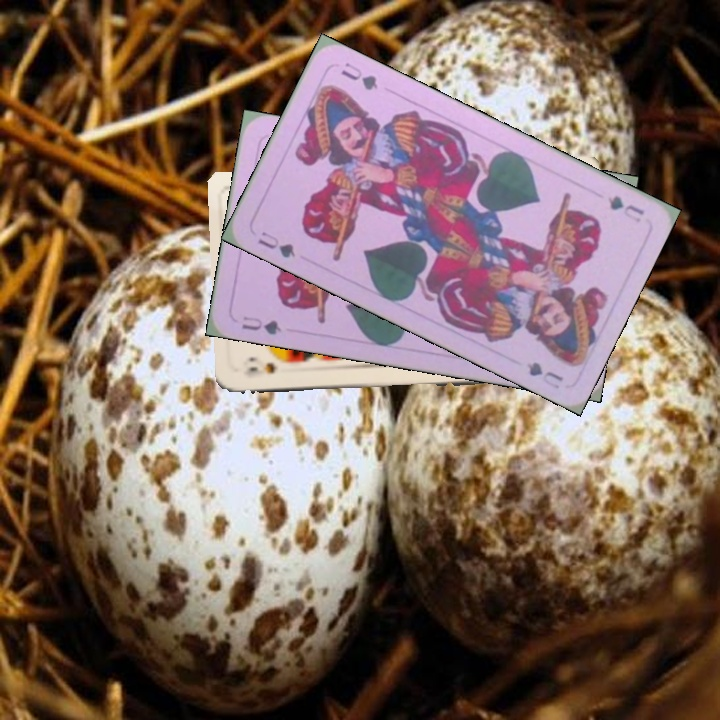GU: (254, 227, 298, 261), (603, 192, 647, 225), (237, 312, 284, 338)
S10: (239, 360, 280, 380)
